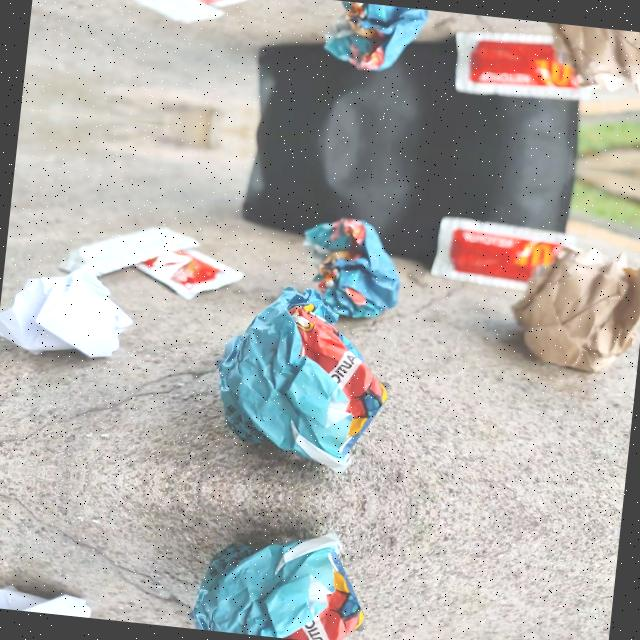paper: (202, 278, 403, 482), (185, 513, 379, 640), (500, 232, 640, 376), (0, 263, 133, 374), (296, 204, 418, 325), (322, 0, 439, 84), (529, 21, 640, 102), (0, 570, 101, 618)
